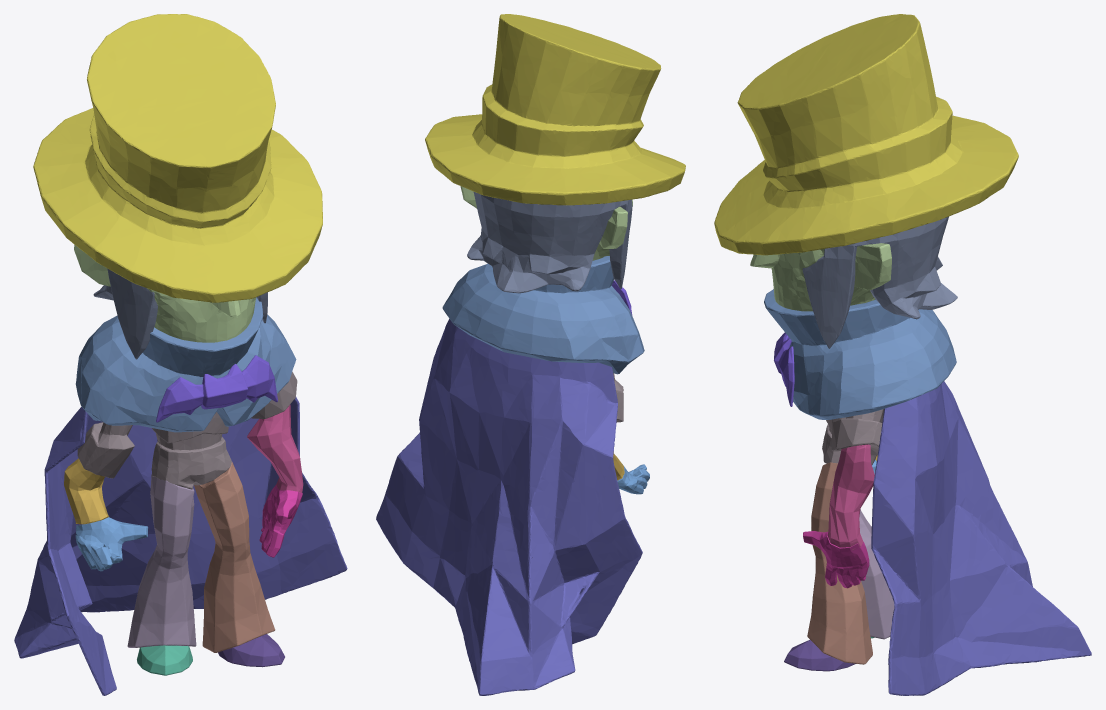
3 renders of one model, left to right at view 1: azimuth 30°, elevation 25°; view 2: azimuth 150°, elevation 25°; view 3: azimuth 270°, elevation 25°, orthographic. The views are drawn at different scales.
Parts seen in each view (by area): view 1: world; view 2: world; view 3: world.
Part boxes in pixels (x1,y1,x2,y2): world: (14,14,347,695); world: (376,14,685,695); world: (714,14,1091,695).
Bounding box in the file's own units: 0.9063 × 1.9 × 0.9914.
